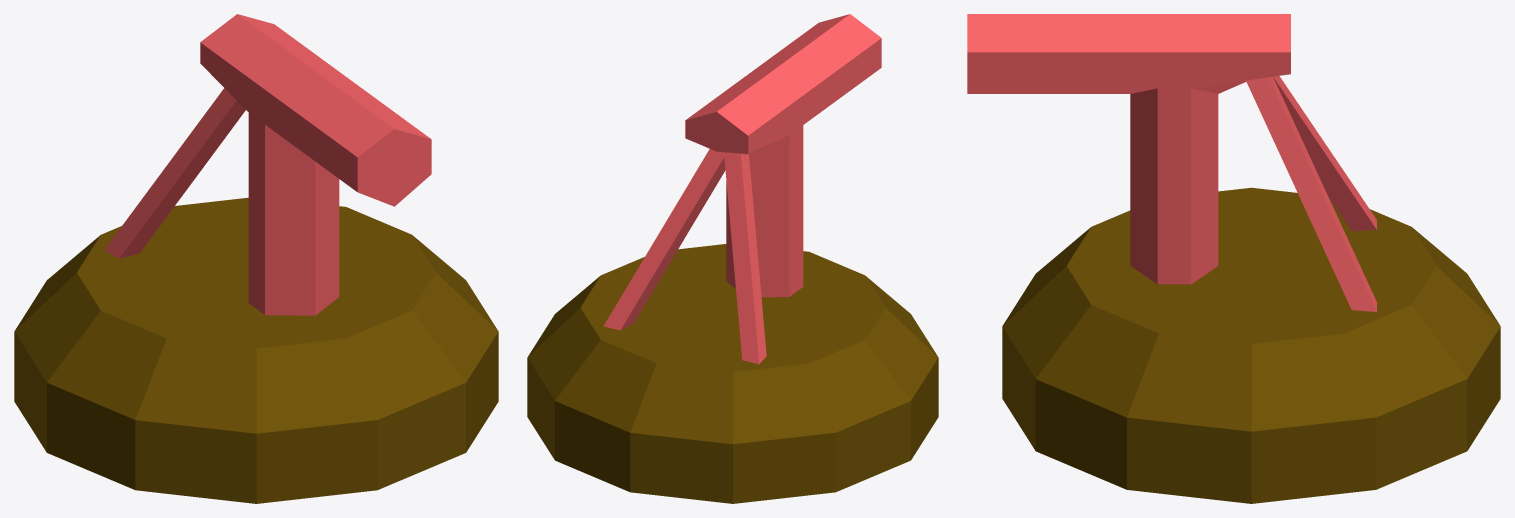
File: Gun 1.fbx
3 renders of one model, left to right at view 1: azimuth 30°, elevation 25°; view 2: azimuth 150°, elevation 25°; view 3: azimuth 270°, elevation 25°, orthographic. The views are drawn at different scales.
Parts seen in each view (by area): view 1: Cylinder, Cube, Cube.002; view 2: Cylinder, Cube, Cube.002, Cube.001; view 3: Cylinder, Cube, Cube.001, Cube.002.
Part boxes in pixels (box(x1,y1,x2,y2)): Cylinder: box(14, 197, 498, 503); Cube: box(200, 14, 431, 315); Cube.002: box(104, 88, 245, 258); Cylinder: box(527, 244, 938, 503); Cube: box(685, 14, 881, 297); Cube.002: box(724, 153, 766, 364); Cube.001: box(603, 149, 726, 330); Cylinder: box(1002, 187, 1500, 503); Cube: box(967, 14, 1290, 284); Cube.001: box(1246, 76, 1376, 311); Cube.002: box(1273, 76, 1376, 231).
Size of the model in its own units: 141 by 120 by 151.
